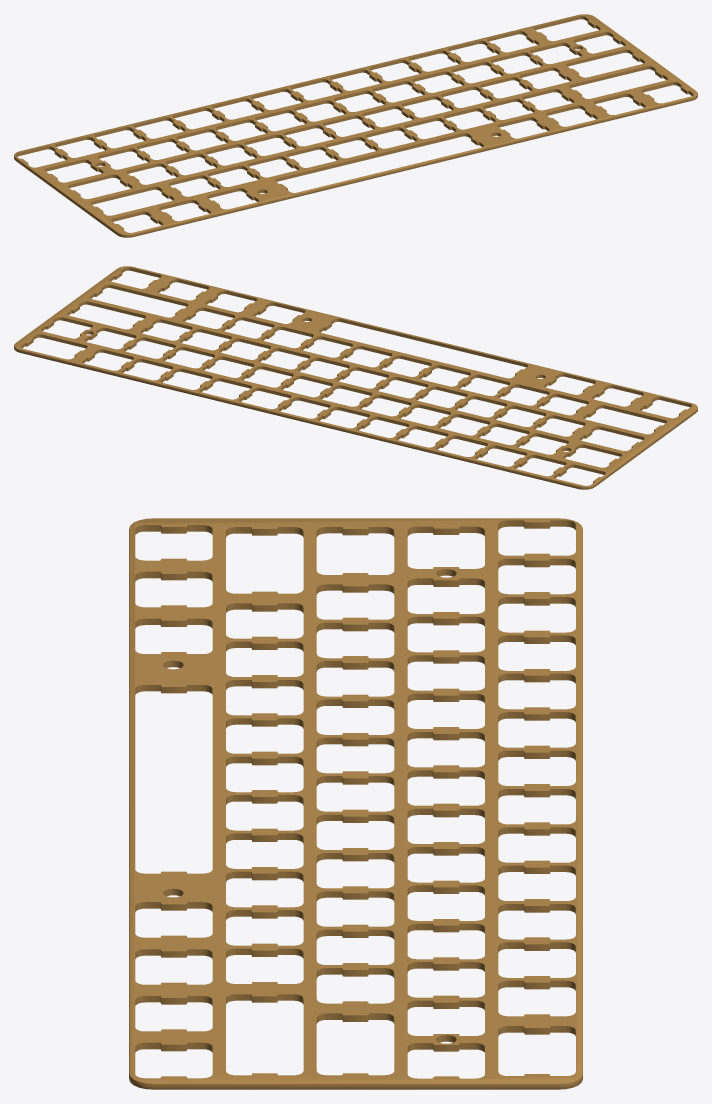
Rendered from plate.glb.
3 views of the same model, one above another, from view 1: azimuth 30°, elevation 25°; view 2: azimuth 150°, elevation 25°; view 3: azimuth 270°, elevation 25° (orthographic). The views are drawn at different scales.
Parts seen in each view (by area): view 1: Plate; view 2: Plate; view 3: Plate.
Part boxes in pixels (x1,y1,x2,y2): Plate: (14,14,697,237); Plate: (14,266,697,489); Plate: (129,518,582,1089).
Bounding box in the file's own units: 0.28 × 0.0015 × 0.095.
